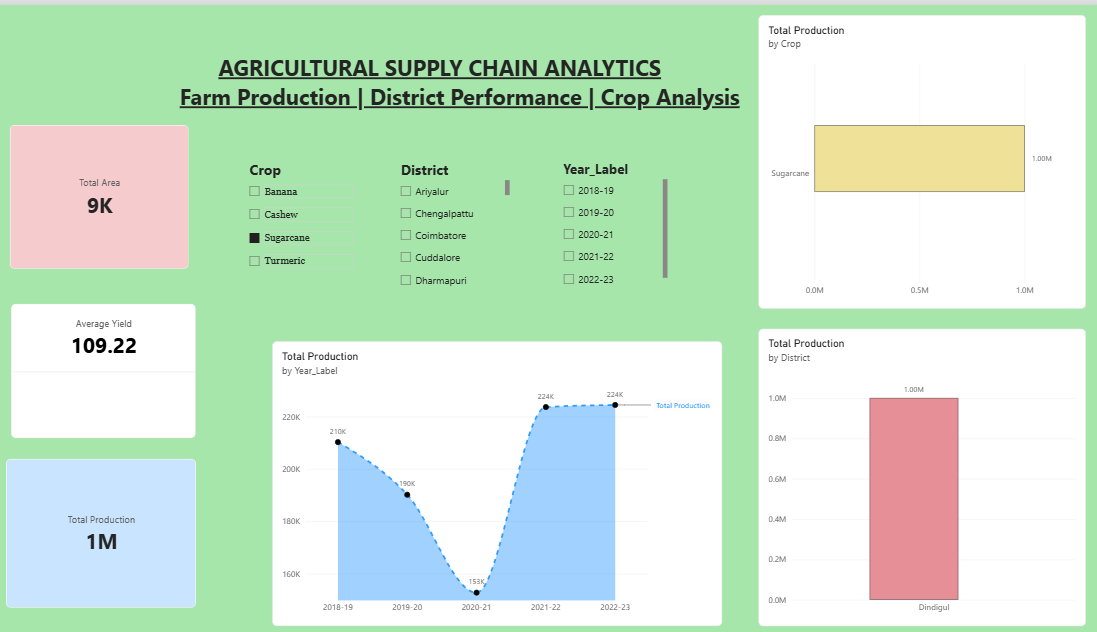

The page's visual inventory and layout, read from the dashboard file:
{"tool":"powerbi","page":{"name":"FARM PRODUCTION","canvas":[1920,1080],"ordinal":0},"visuals":[{"type":"cardVisual","fields":{"Data":["farmer prodcution new.Total Production"]},"box":[34.2,776.1,325.2,255.2],"z":0},{"type":"cardVisual","fields":{"Data":["farmer prodcution new.Total Area"]},"box":[40.6,205.3,306.7,247],"z":1000},{"type":"cardVisual","fields":{"Data":["farmer prodcution new.Average Yield"]},"box":[42.8,511,316.4,230.9],"z":2000},{"type":"lineChart","fields":{"Category":["farmer prodcution new.Year_Label"],"Y":["farmer prodcution new.Total Production"]},"box":[489.6,575.1,769.7,487.5],"z":3000},{"type":"clusteredBarChart","fields":{"Category":["farmer prodcution new.Crop"],"Y":["farmer prodcution new.Total Production"]},"box":[1321.3,17.1,560.2,502.4],"z":4000},{"type":"columnChart","fields":{"Category":["farmer prodcution new.District"],"Y":["farmer prodcution new.Total Production"]},"box":[1321.3,553.8,560.2,508.9],"z":5000},{"type":"slicer","fields":{"Values":["CropTable.Crop"]},"box":[442.6,265.1,186,245.9],"z":6000},{"type":"slicer","fields":{"Values":["farmer prodcution new.District"]},"box":[701.3,265.1,194.6,228.8],"z":7000},{"type":"slicer","fields":{"Values":["farmer prodcution new.Year_Label"]},"box":[979.2,265.1,186,213.8],"z":8000},{"type":"textbox","box":[331.4,81.2,1047.7,124],"z":9000}]}

Visuals, with their boxes in screenshot pixels (x1, y1, x2, y2), scaled from the page's 1920x1080 canvas onto the 1097x632 screenshot:
cardVisual - farmer prodcution new.Total Production: Rect(20, 454, 205, 604)
cardVisual - farmer prodcution new.Total Area: Rect(23, 120, 198, 265)
cardVisual - farmer prodcution new.Average Yield: Rect(24, 299, 205, 434)
lineChart - farmer prodcution new.Year_Label x farmer prodcution new.Total Production: Rect(280, 337, 720, 622)
clusteredBarChart - farmer prodcution new.Crop x farmer prodcution new.Total Production: Rect(755, 10, 1075, 304)
columnChart - farmer prodcution new.District x farmer prodcution new.Total Production: Rect(755, 324, 1075, 622)
slicer - CropTable.Crop: Rect(253, 155, 359, 299)
slicer - farmer prodcution new.District: Rect(401, 155, 512, 289)
slicer - farmer prodcution new.Year_Label: Rect(559, 155, 666, 280)
textbox: Rect(189, 48, 788, 120)
